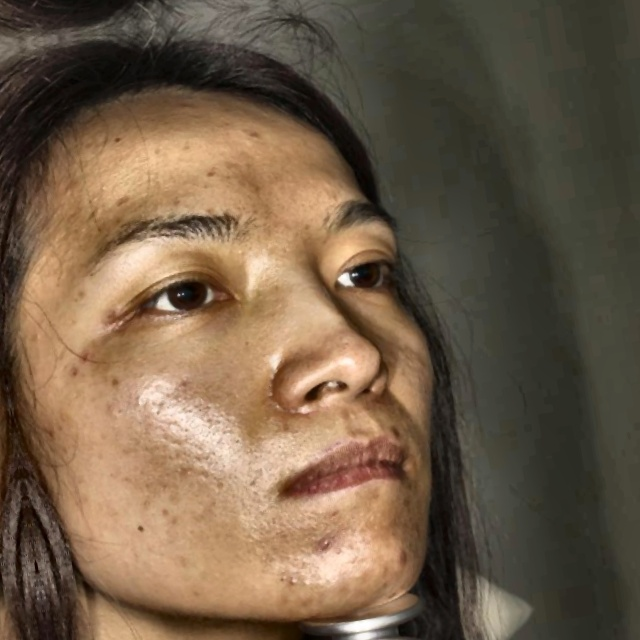comedone: (308, 532, 341, 566), (173, 95, 194, 119), (390, 547, 407, 575)
